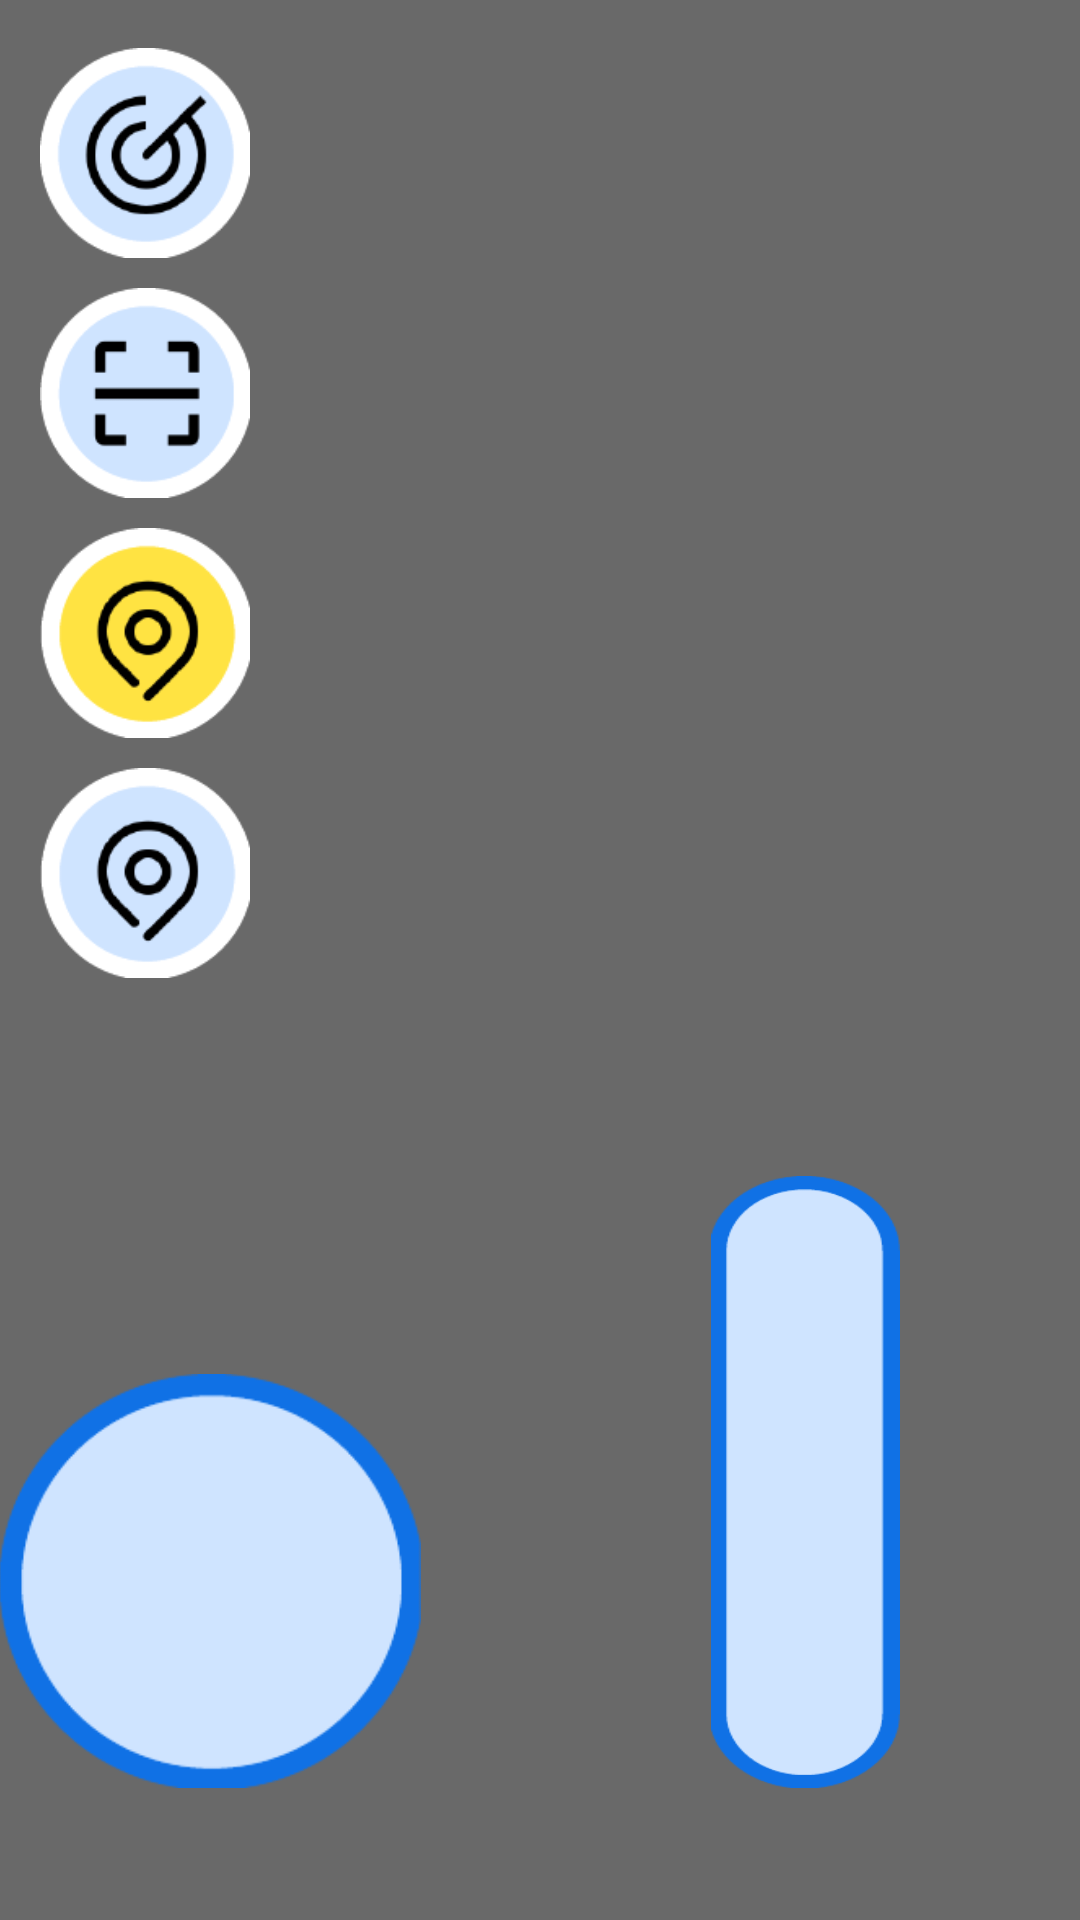

Named icons in this screenshot (1080px×1920px) and their centers, (x,y):
location: (145,633), (145,873)
radar: (145,153)
scan: (145,393)
